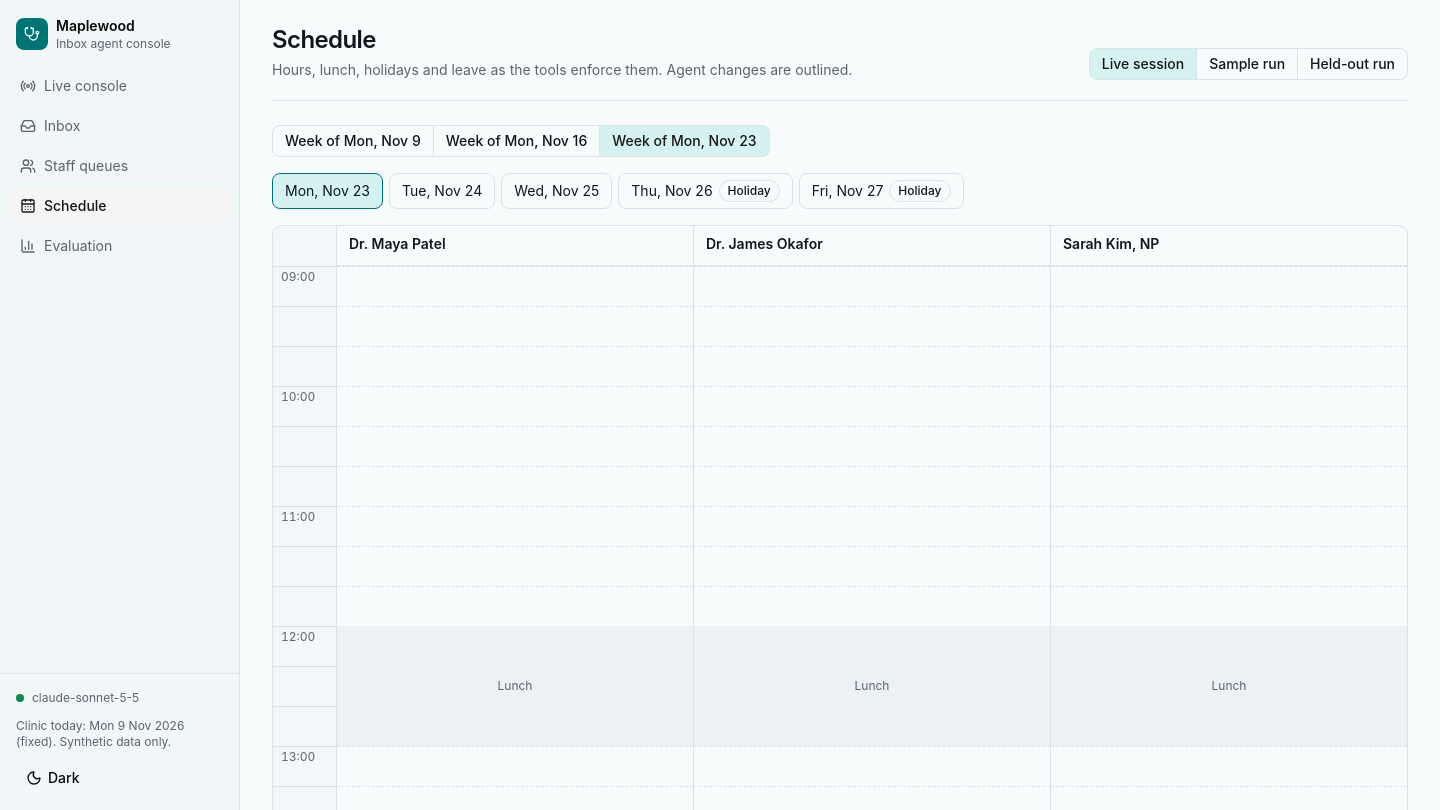
SchedulePage › shows holidays as closed
Click the button "Thu, Nov 26 Holiday": {"x": 706, "y": 191} 618,173 -> 793,209
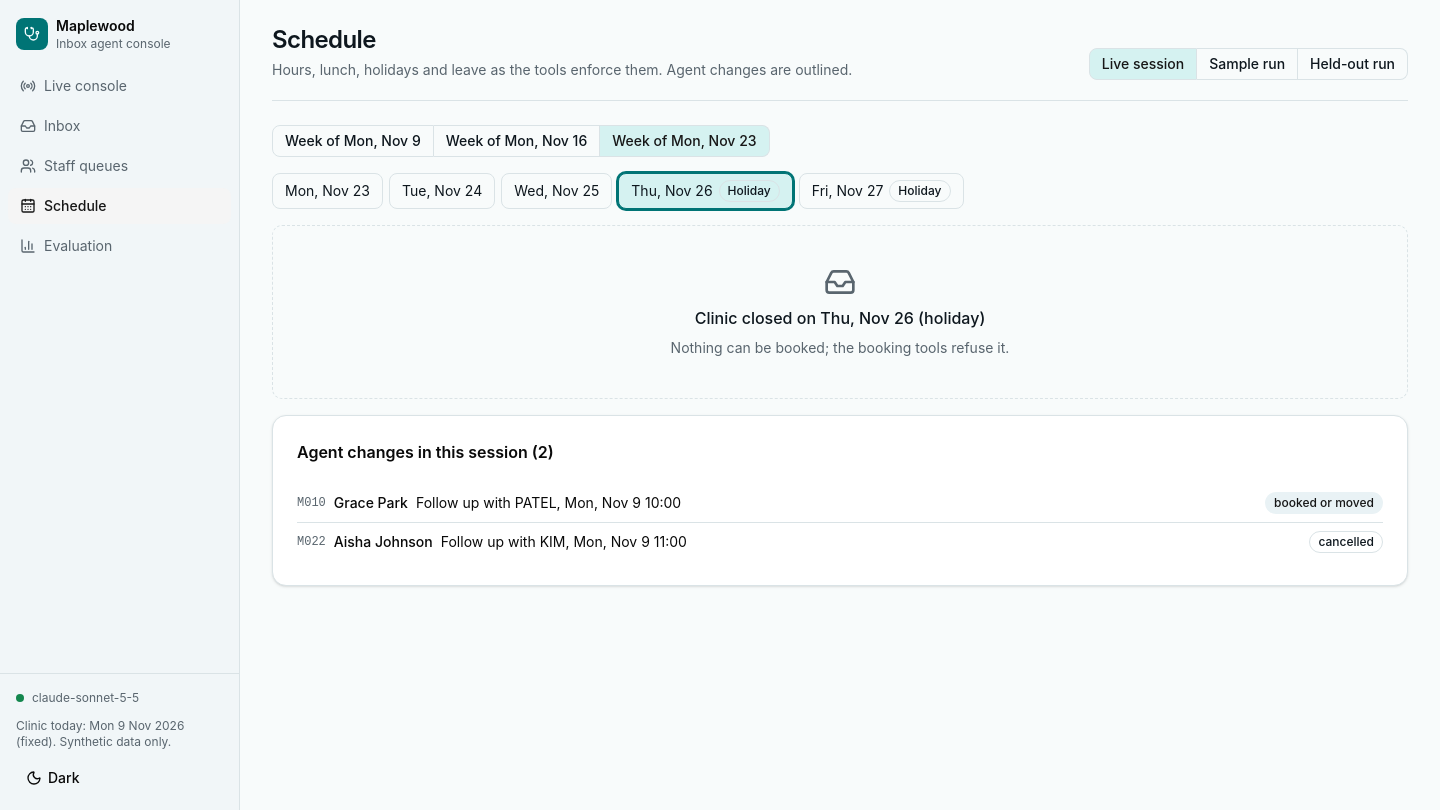
Expected: the text "Clinic closed on Thu, Nov 26 (holiday)" is shown, 695,306 -> 985,330
